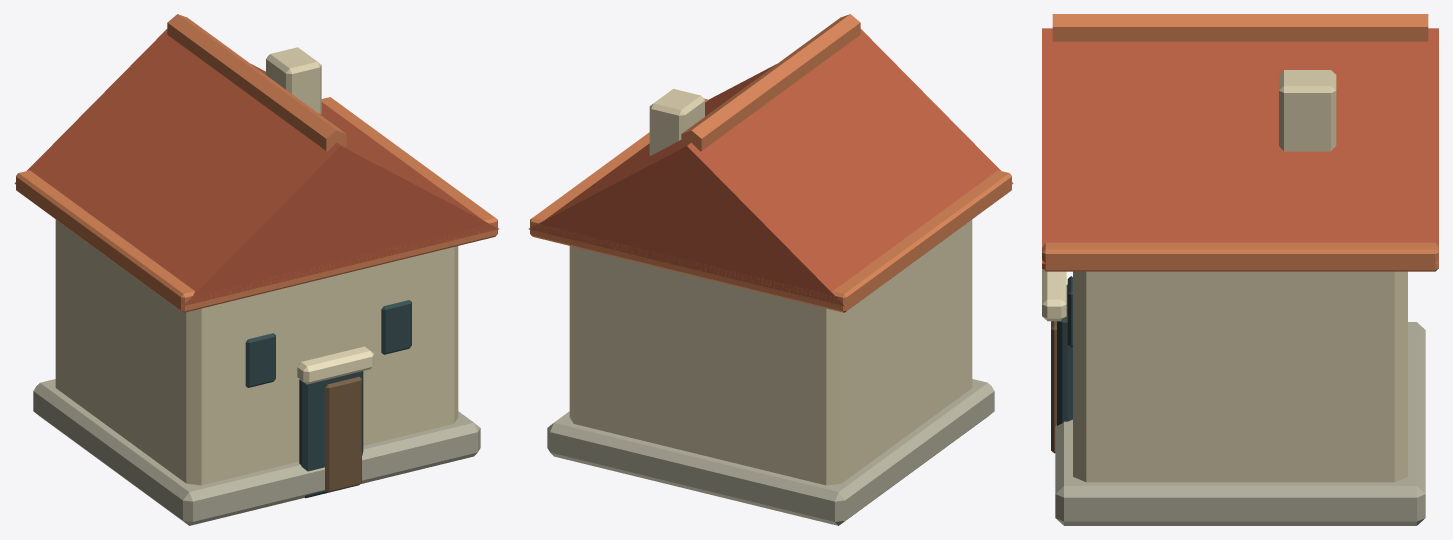
File: house.glb
3 views of the same model, side by side, from view 1: azimuth 30°, elevation 25°; view 2: azimuth 150°, elevation 25°; view 3: azimuth 270°, elevation 25° (orthographic). The views are drawn at different scales.
Visible parts, largest first — view 1: Pitched roof, Cube, Cube.001, Cube.002, Tapered form, Cube.006, Cube.005, Cube.008, Cube.007, Cube.003, Cube.004; view 2: Cube, Pitched roof, Cube.001, Cube.002, Tapered form, Cube.008; view 3: Pitched roof, Cube, Cube.001, Cube.002, Tapered form, Cube.008, Cube.005, Cube.007, Cube.006.
Part boxes in pixels (x1=…): Pitched roof: x1=14, y1=29, x2=499, y2=306; Cube: x1=55, y1=219, x2=458, y2=485; Cube.001: x1=33, y1=379, x2=480, y2=525; Cube.002: x1=16, y1=97, x2=497, y2=312; Tapered form: x1=167, y1=14, x2=346, y2=151; Cube.006: x1=325, y1=376, x2=361, y2=492; Cube.005: x1=299, y1=371, x2=363, y2=498; Cube.008: x1=266, y1=47, x2=321, y2=114; Cube.007: x1=297, y1=346, x2=374, y2=384; Cube.003: x1=245, y1=333, x2=275, y2=387; Cube.004: x1=381, y1=300, x2=411, y2=354; Cube: x1=569, y1=219, x2=972, y2=485; Pitched roof: x1=528, y1=29, x2=1013, y2=306; Cube.001: x1=547, y1=379, x2=994, y2=525; Cube.002: x1=530, y1=98, x2=1011, y2=312; Tapered form: x1=681, y1=14, x2=860, y2=151; Cube.008: x1=649, y1=89, x2=704, y2=155; Pitched roof: x1=1042, y1=28, x2=1438, y2=263; Cube: x1=1073, y1=271, x2=1407, y2=482; Cube.001: x1=1055, y1=322, x2=1425, y2=525; Cube.002: x1=1042, y1=242, x2=1438, y2=271; Tapered form: x1=1052, y1=14, x2=1428, y2=41; Cube.008: x1=1279, y1=70, x2=1336, y2=151; Cube.005: x1=1057, y1=284, x2=1072, y2=425; Cube.007: x1=1042, y1=269, x2=1066, y2=321; Cube.006: x1=1051, y1=321, x2=1056, y2=453.
Bounding box in the file's own units: 0.49 × 0.538 × 0.45.
